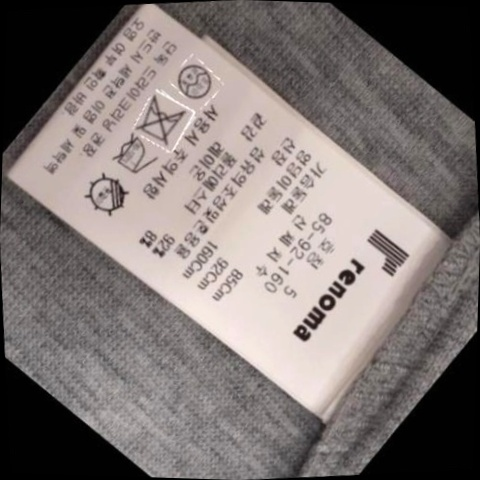DN_wash: (136, 97, 192, 144)
dry_clean_petrol_only: (175, 59, 218, 101)
iron_low: (109, 135, 158, 178)
line_dry_in_shade: (84, 173, 137, 217)
